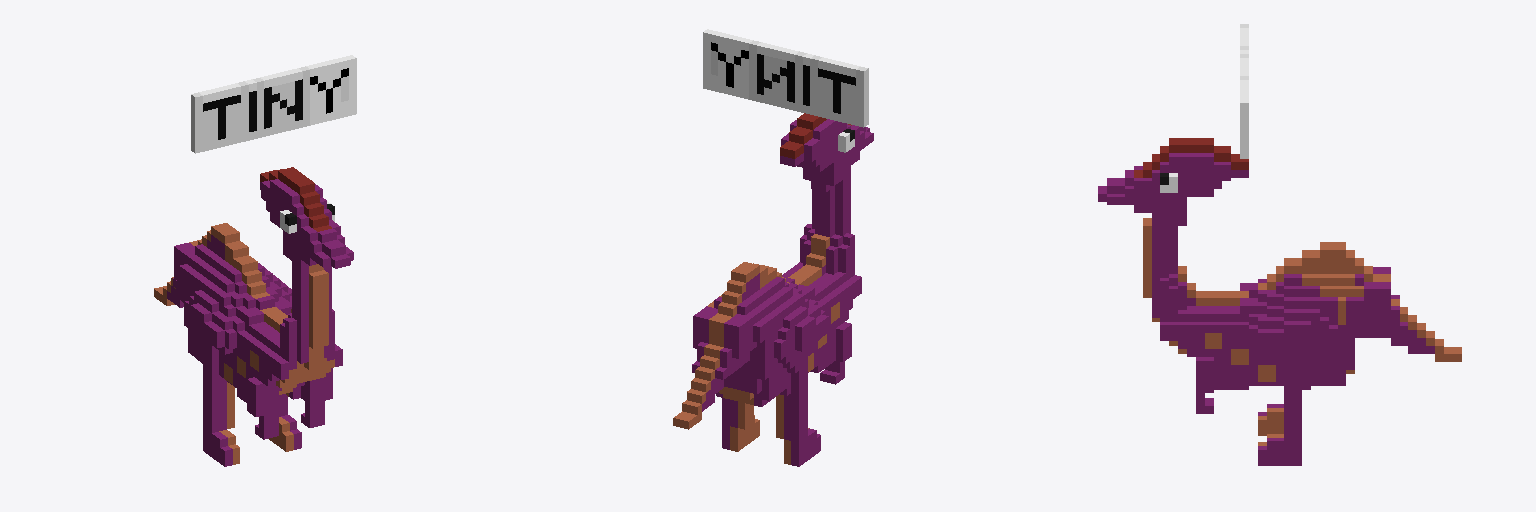
3 renders of one model, left to right at view 1: azimuth 30°, elevation 25°; view 2: azimuth 150°, elevation 25°; view 3: azimuth 270°, elevation 25°, orthographic.
Parts seen in each view (by area): view 1: Matrix_11; view 2: Matrix_11; view 3: Matrix_11.
Part boxes in pixels (x1,y1,x2,y2): Matrix_11: (154,55,356,466); Matrix_11: (673,29,873,466); Matrix_11: (1098,24,1461,465).
Bounding box in the file's own units: 21 × 48 × 41.
Materials: 1 (1 with a texture image).